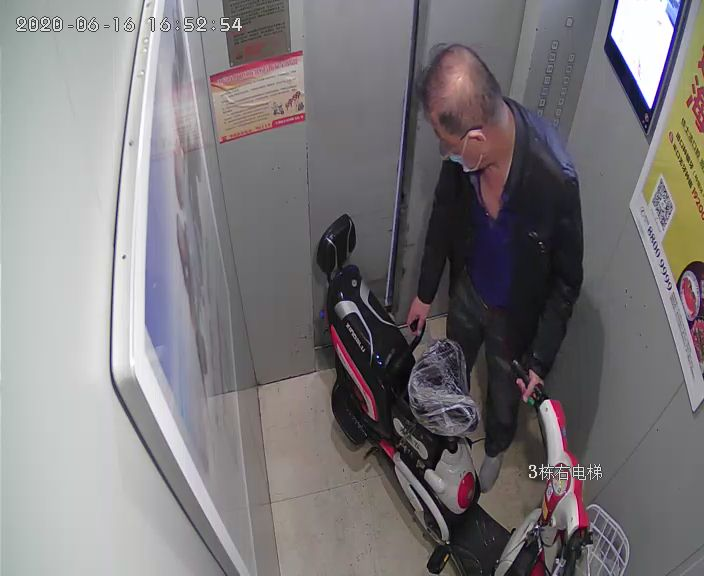Electric-bicycle: (316, 214, 630, 574)
